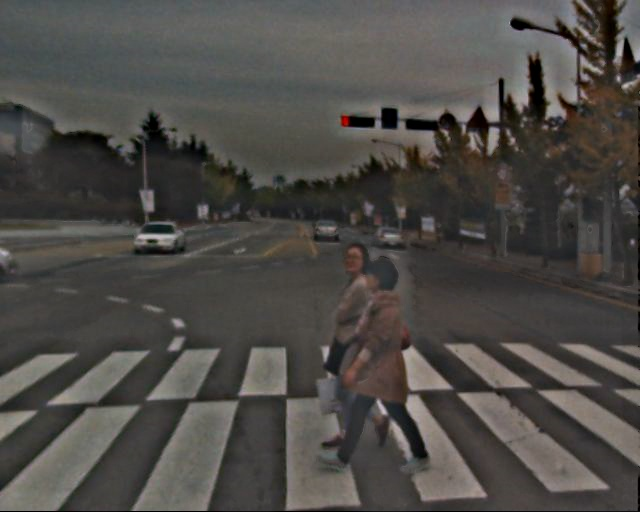person: (335, 257, 429, 471), (320, 239, 395, 449)
